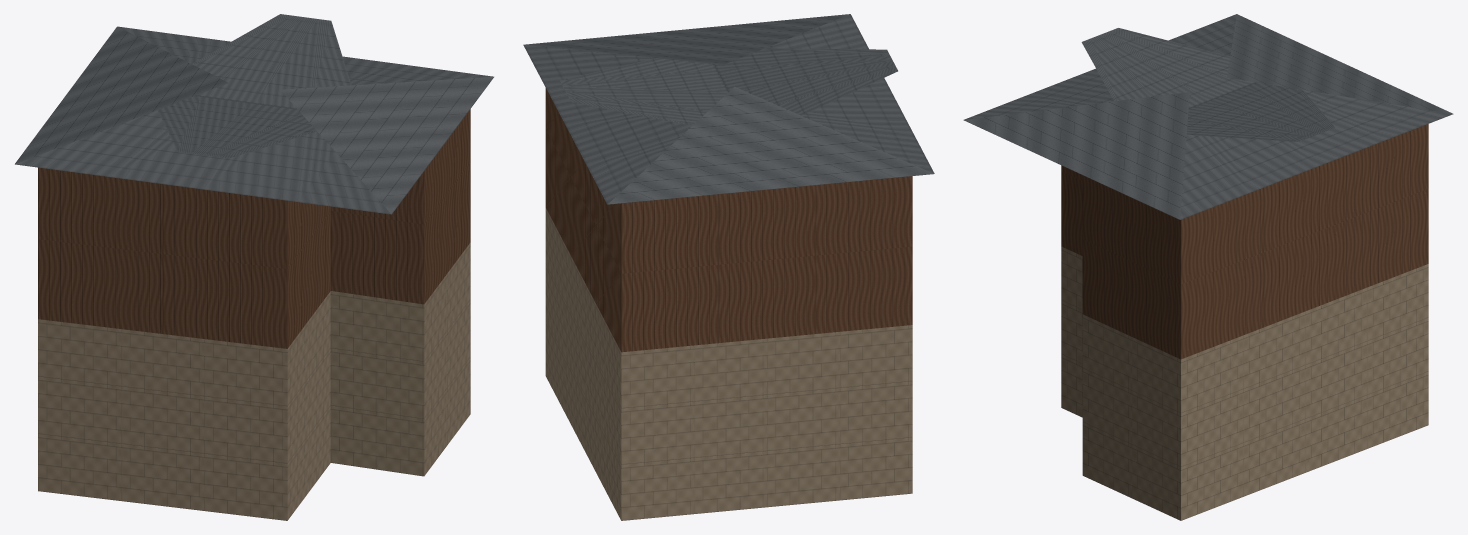
File: bld_c18_16_520.gltf
The picture shows the model from 3 angles, left to right: view 1: azimuth 30°, elevation 25°; view 2: azimuth 150°, elevation 25°; view 3: azimuth 270°, elevation 25°; orthographic projection. The views are drawn at different scales.
Parts seen in each view (by area): view 1: bld_c18_16_520; view 2: bld_c18_16_520; view 3: bld_c18_16_520.
Boxes of the visible parts, box(x1,y1,x2,y2) form: bld_c18_16_520: box(15, 14, 493, 520); bld_c18_16_520: box(523, 14, 934, 520); bld_c18_16_520: box(963, 14, 1453, 520).
Bounding box in the file's own units: 13.76 × 10.7 × 13.84.
Materials: 3 (3 with a texture image).
